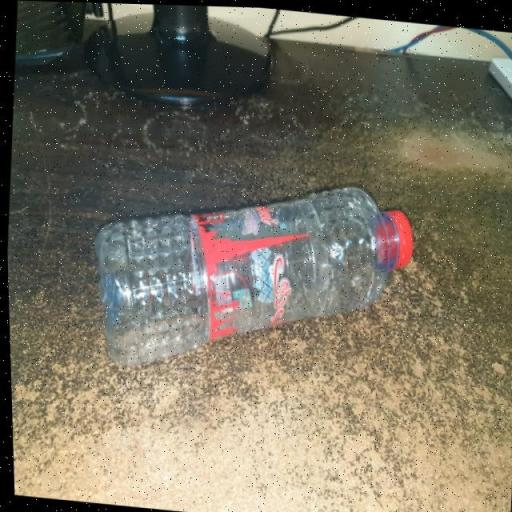plastic: (76, 155, 424, 397)
